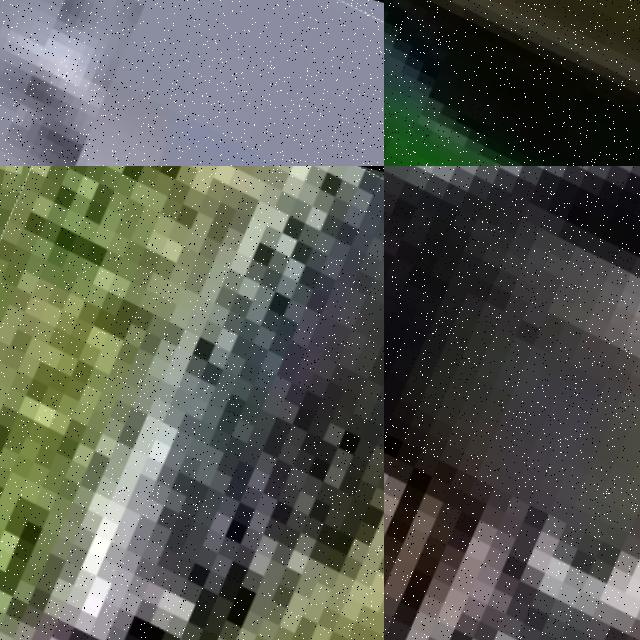drone: (0, 166, 384, 640), (384, 166, 640, 640), (0, 0, 384, 166), (384, 0, 640, 166)
